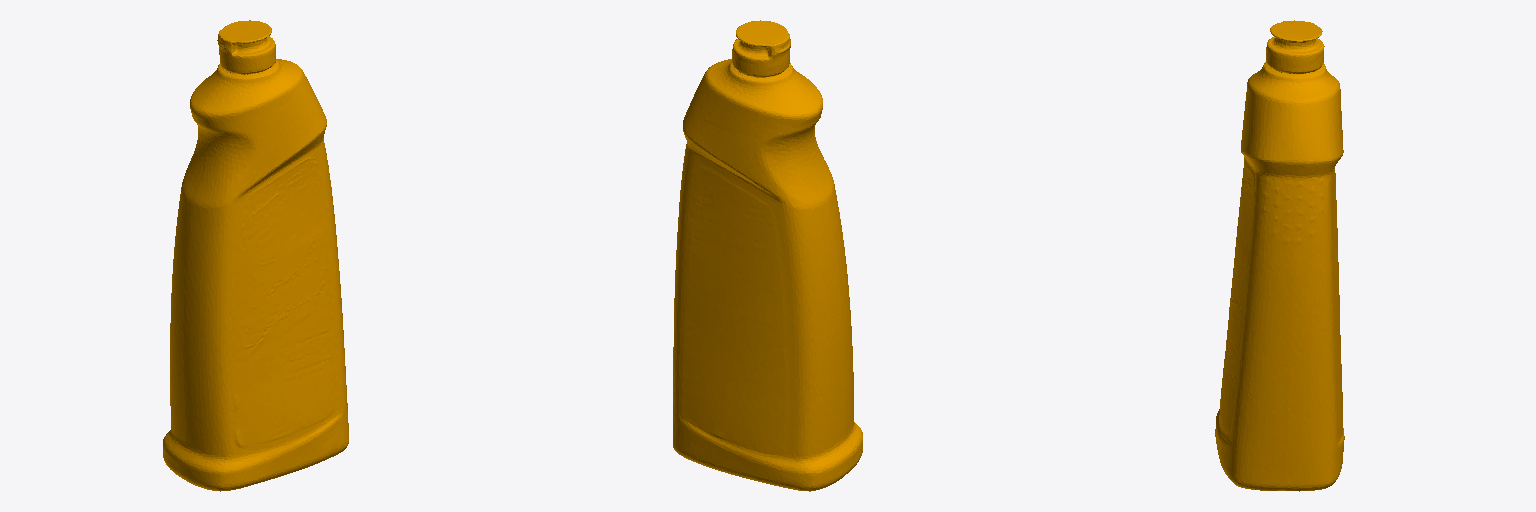
robot.urdf — root:
<robot name="root">
  <link name="link_original">
    <visual>
      <origin xyz="0 0 0" rpy="0 0 0"/>
      <geometry>
        <mesh filename="textured.obj" scale="1.0000E+00 1.0000E+00 1.0000E+00"/>
      </geometry>
    </visual>
    <inertial>
      <origin xyz="0 0 0" rpy="0 0 0"/>
      <mass value="9.7234E-01"/>
      <inertia ixx="4.25E-03" ixy="-1.51E-05" ixz="-7.00E-05" iyy="4.56E-03" iyz="-1.37E-04" izz="7.72E-04"/>
    </inertial>
    <collision>
      <origin xyz="0 0 0" rpy="0 0 0"/>
      <geometry>
        <mesh filename="coacd_allinone.obj" scale="1.0000E+00 1.0000E+00 1.0000E+00"/>
      </geometry>
    </collision>
  </link>
</robot>

--- Facts derived from the render (not from the file) ---
3 views of the same robot in one strip: view 1: azimuth 30°, elevation 25°; view 2: azimuth 150°, elevation 25°; view 3: azimuth 270°, elevation 25° (orthographic).
Model root with 1 links and 0 joints (none), rooted at link_original, posed all joints at 0.
Links seen in each view (by area): view 1: link_original; view 2: link_original; view 3: link_original.
Boxes of the visible links, box(x1,y1,x2,y2) form: link_original: box(163, 20, 348, 491); link_original: box(673, 20, 862, 491); link_original: box(1215, 20, 1344, 491).
Bounding box of the posed robot: 0.0986 × 0.0685 × 0.2538 m (x, y, z).
Meshes: 1 distinct files referenced, 1 mesh visuals loaded (1 OBJ).
